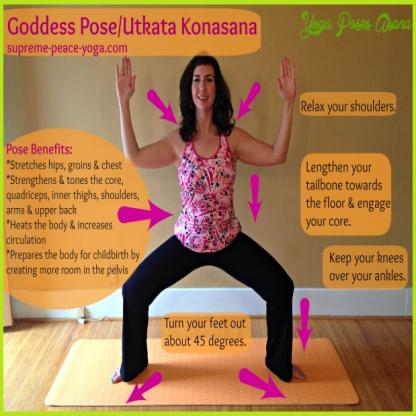godness: (107, 48, 308, 394)
